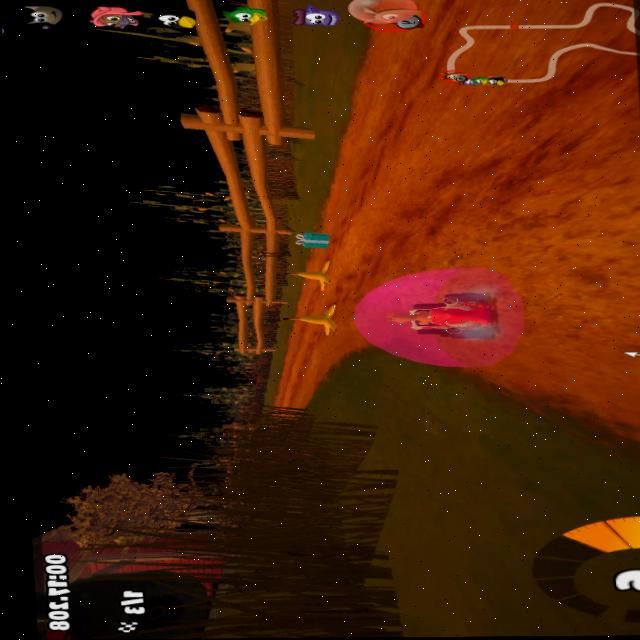bonus: (291, 228, 336, 250)
obstacle: (286, 302, 354, 336), (293, 261, 339, 291)
track: (387, 0, 640, 264), (519, 266, 640, 443), (347, 110, 407, 272), (271, 338, 317, 409), (356, 66, 399, 110), (335, 232, 355, 300), (315, 183, 342, 227), (320, 339, 355, 358), (298, 290, 336, 300)
